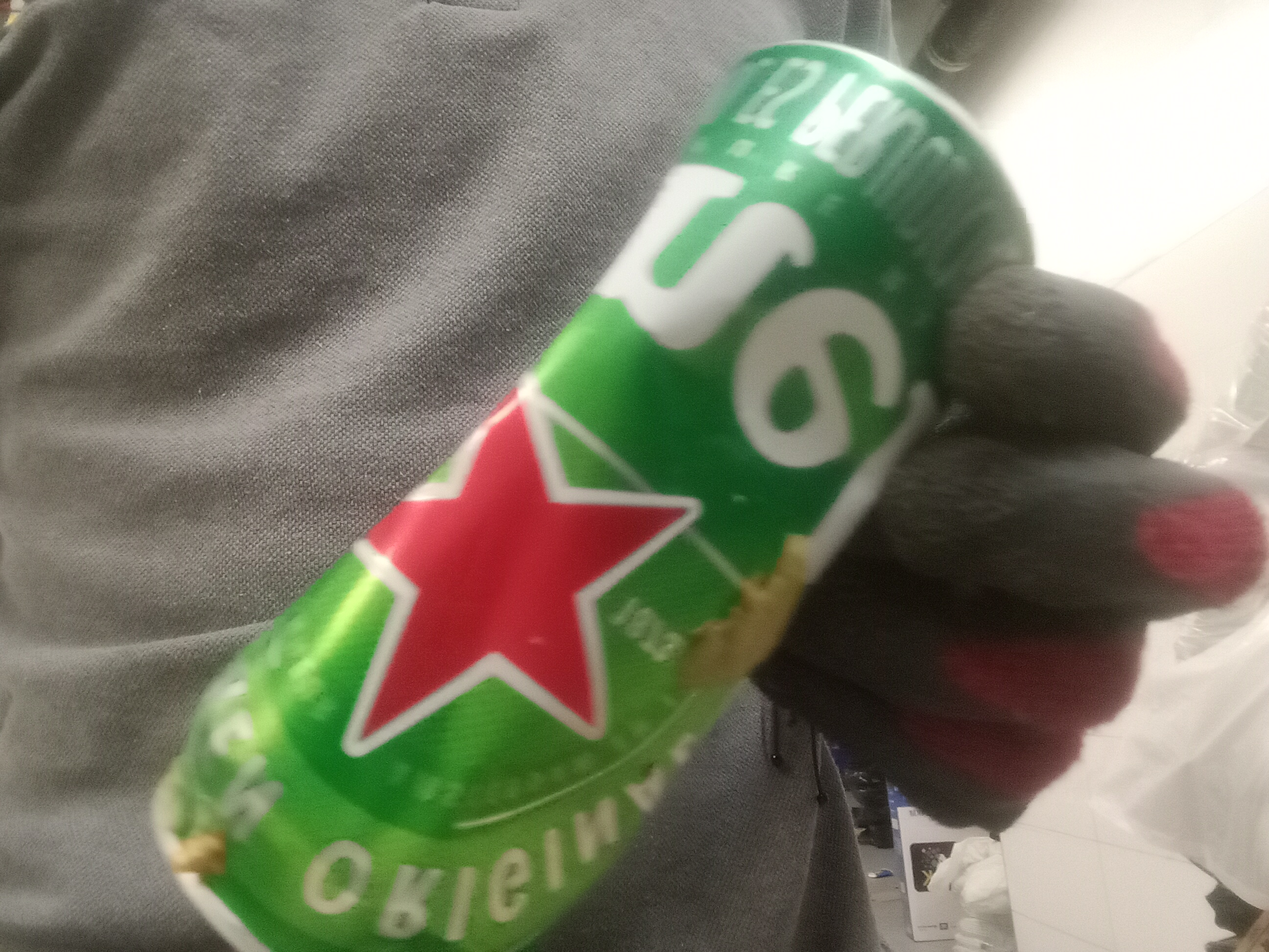Metal: (149, 41, 1031, 952)
